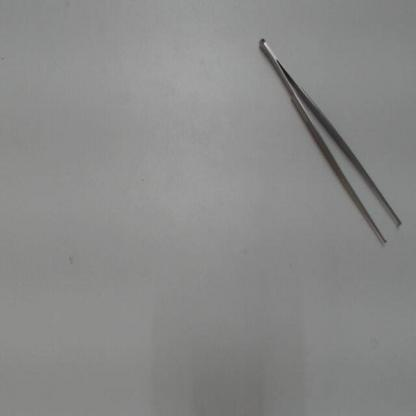Gillies Toothed Dissector: (254, 24, 408, 256)
